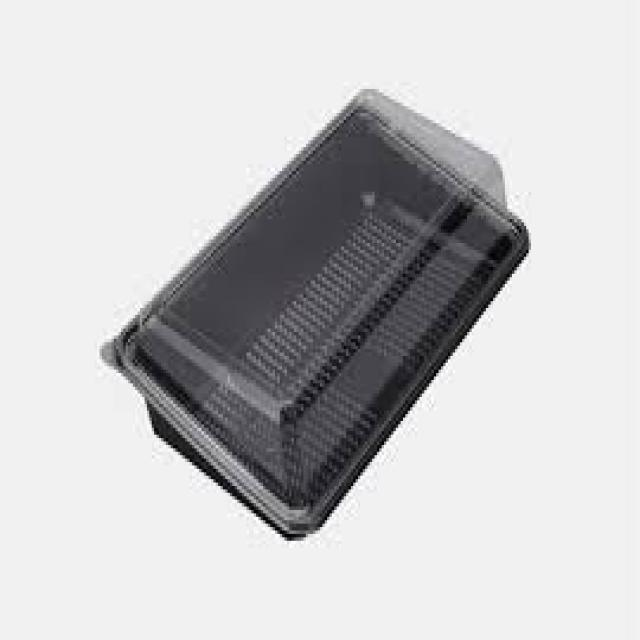disposable: (86, 76, 553, 556)
